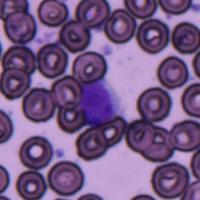L: (78, 78, 123, 127)
